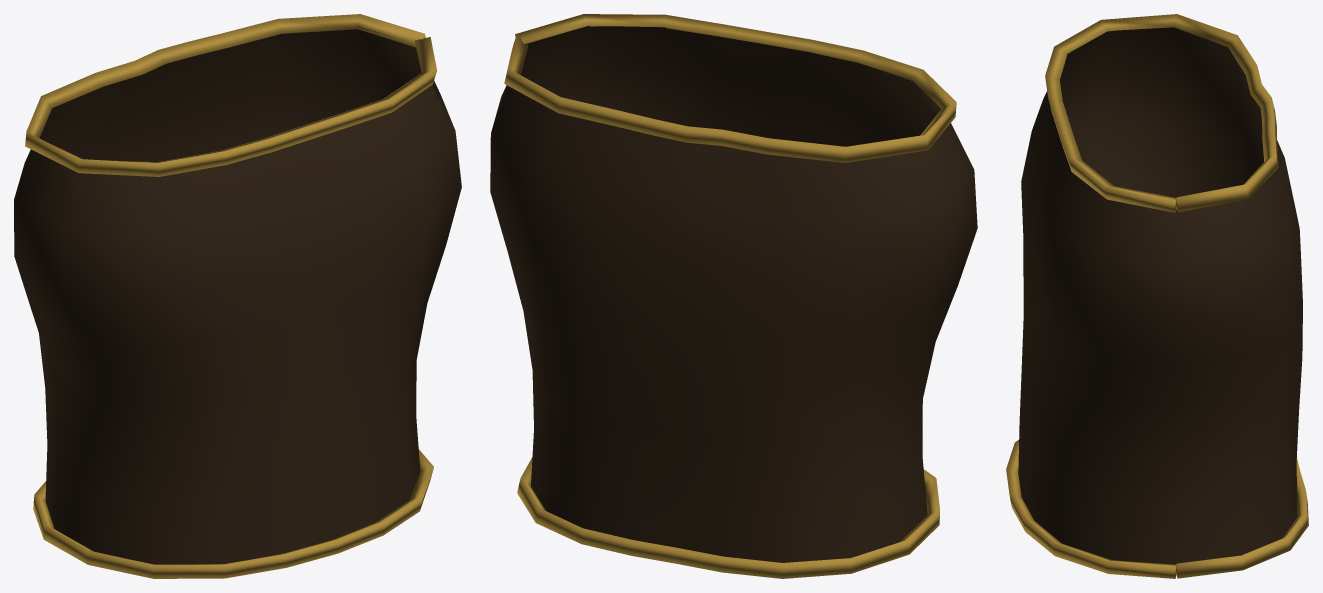
The model's file is pirate_outfit_chest.glb.
The picture shows the model from 3 angles, left to right: view 1: azimuth 30°, elevation 25°; view 2: azimuth 150°, elevation 25°; view 3: azimuth 270°, elevation 25°; orthographic projection. The views are drawn at different scales.
Visible parts, largest first — view 1: pirate_outfit_chest; view 2: pirate_outfit_chest; view 3: pirate_outfit_chest.
Part boxes in pixels (left/top/right/bottom): pirate_outfit_chest: left=14, top=14, right=461, bottom=578; pirate_outfit_chest: left=490, top=14, right=977, bottom=578; pirate_outfit_chest: left=1006, top=14, right=1308, bottom=578.
Bounding box in the file's own units: 0.4168 × 0.3859 × 0.2708.
